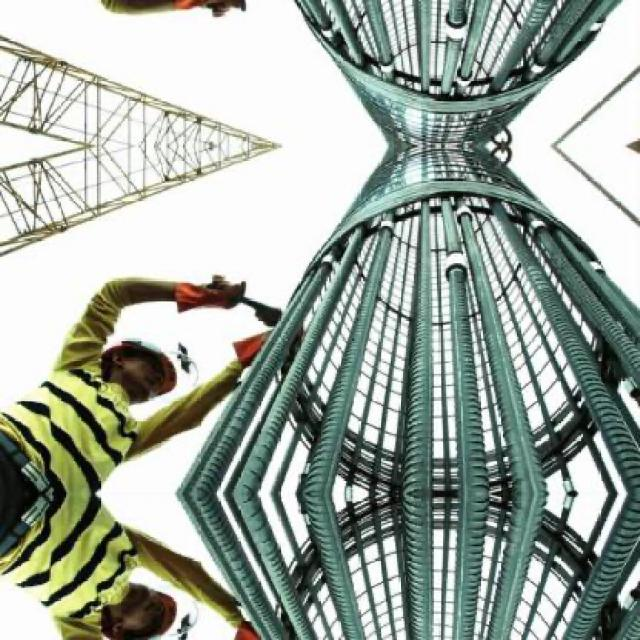helmet: (94, 303, 192, 402), (94, 583, 194, 639)
